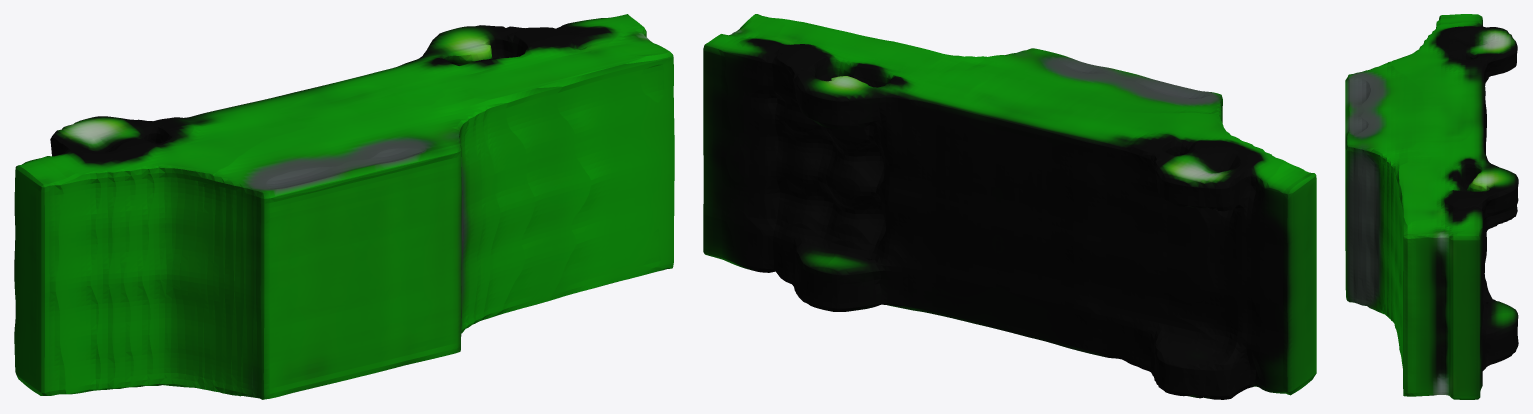
The model's file is Dark green car_1749650472.obj.
The picture shows the model from 3 angles, left to right: view 1: azimuth 30°, elevation 25°; view 2: azimuth 150°, elevation 25°; view 3: azimuth 270°, elevation 25°; orthographic projection. The views are drawn at different scales.
Size of the model in its own units: 1.98 by 0.722 by 0.6478.
